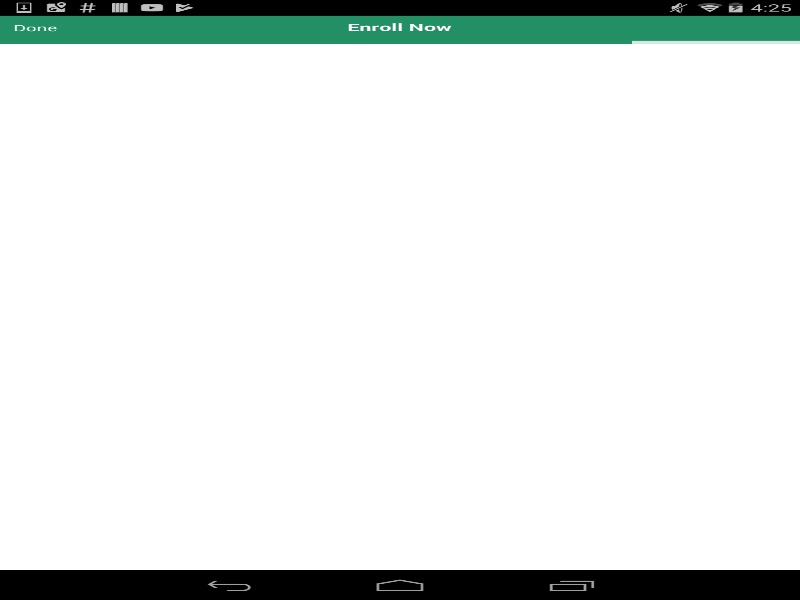Button: (46, 465, 145, 483)
Input: (46, 277, 724, 295), (46, 382, 724, 400), (46, 330, 724, 347), (46, 435, 724, 452)
